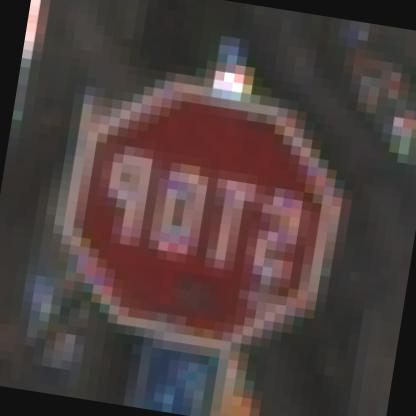stop: (41, 65, 355, 376)
